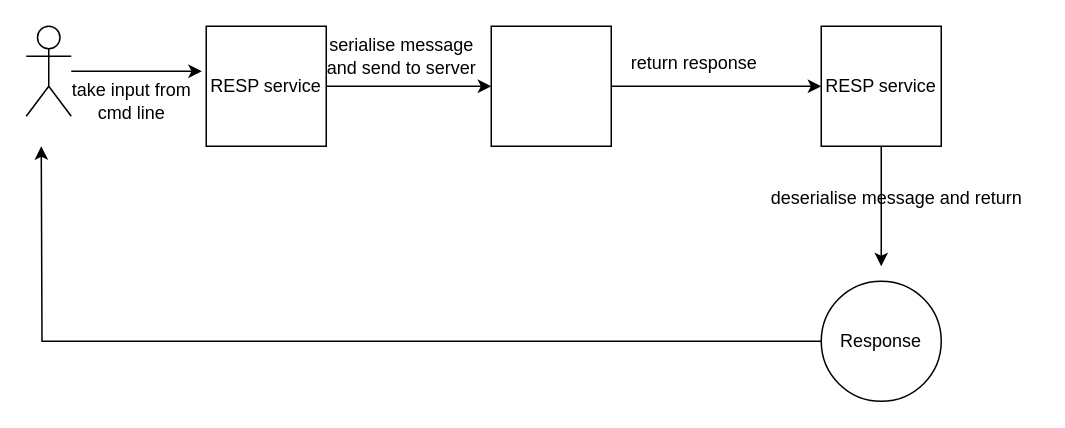
This 1065x428 diagram has some shape labels left out. Each missing label, with the centre of its shape:
Actor: (x=48, y=70)
Redis Server: (x=550, y=85)
